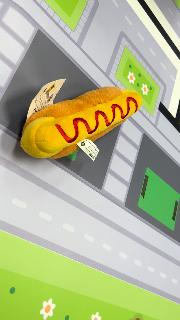hotdog: (20, 86, 144, 160)
